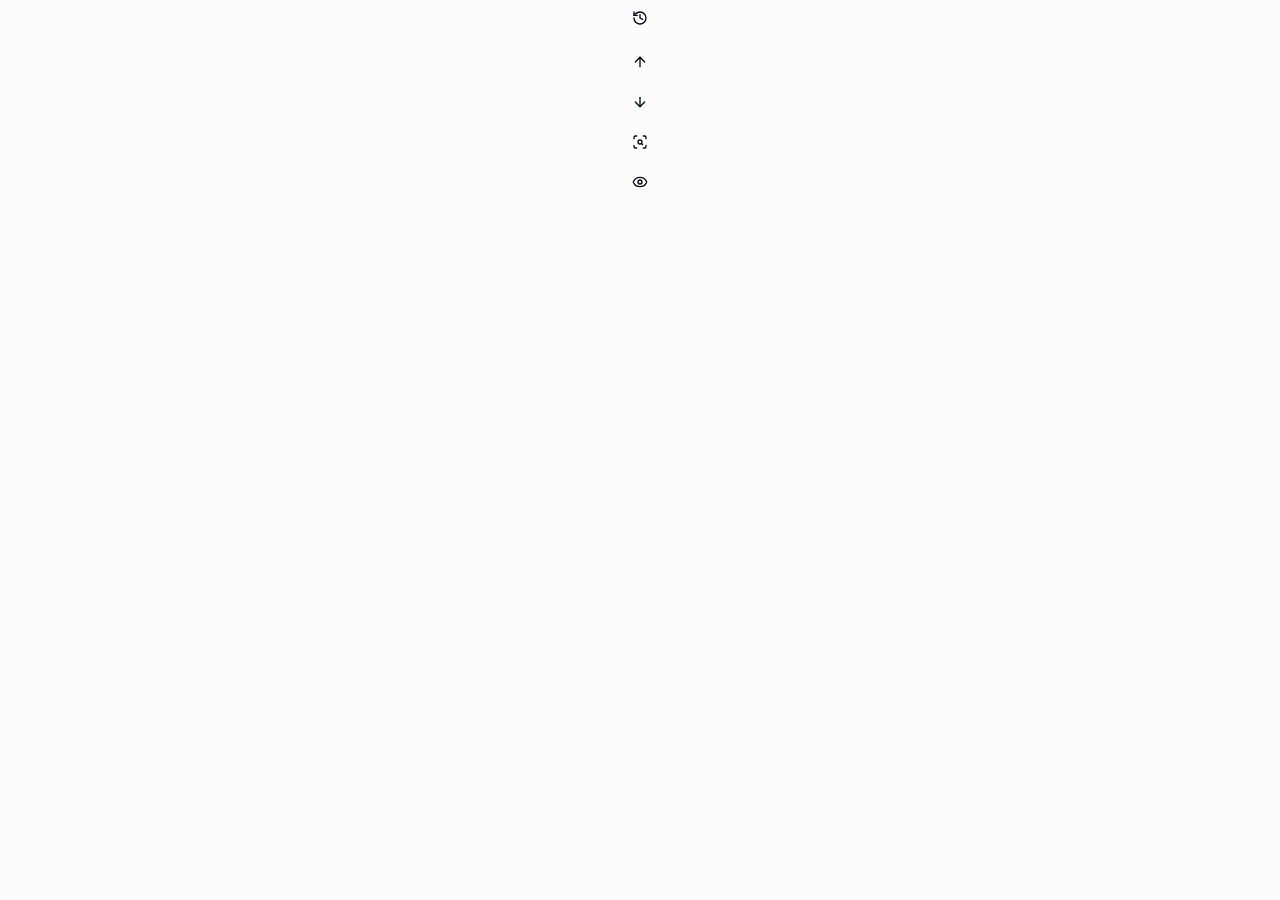
Test: colors every selected version change against its predecessor, including replaced and deleted text
Click the button named "Version history" at x=640, y=18, box [622,0,658,36]
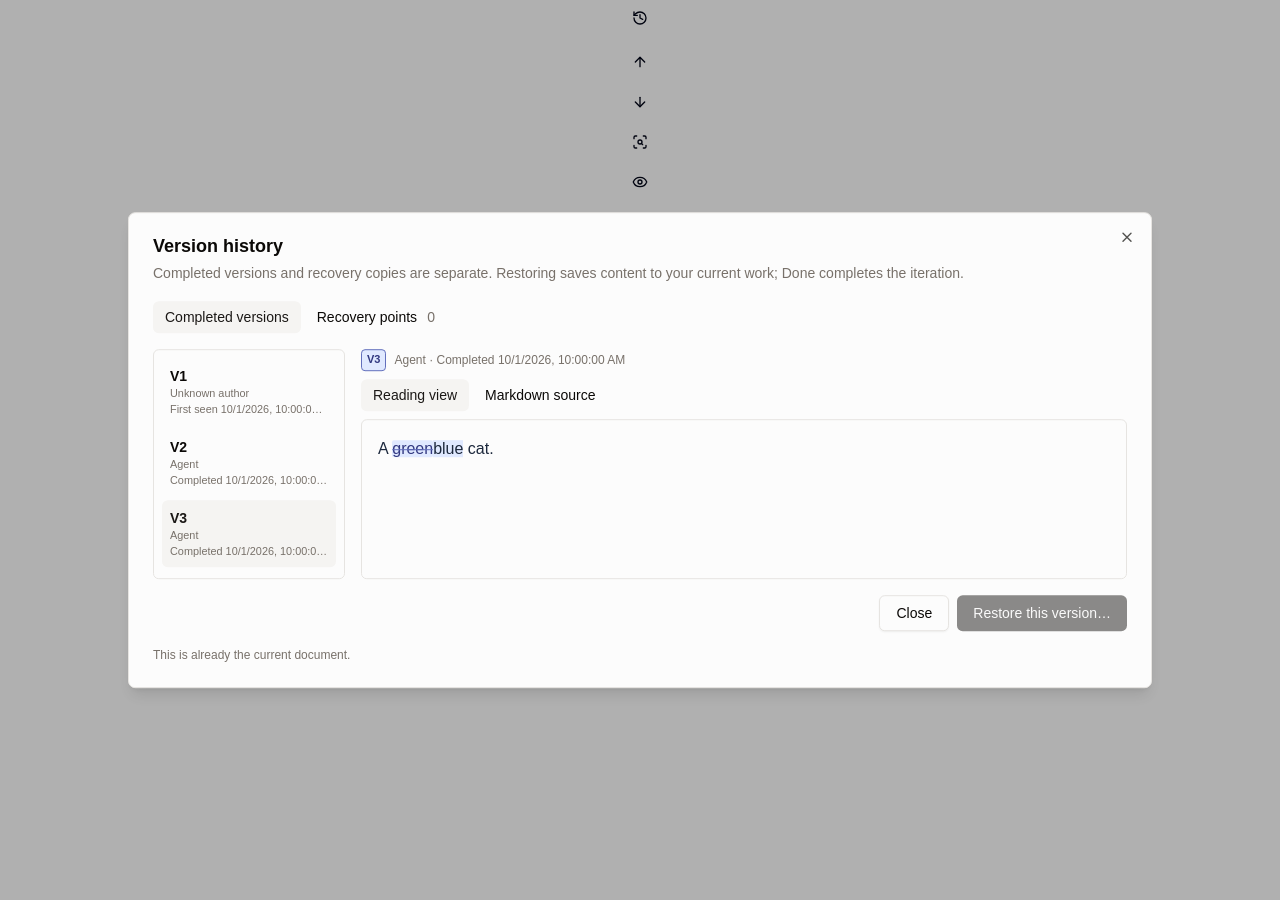
Click the button "V2 Agent Completed 10/1/2026, 10:00:00 AM" at x=249, y=463, box [162,429,336,496]
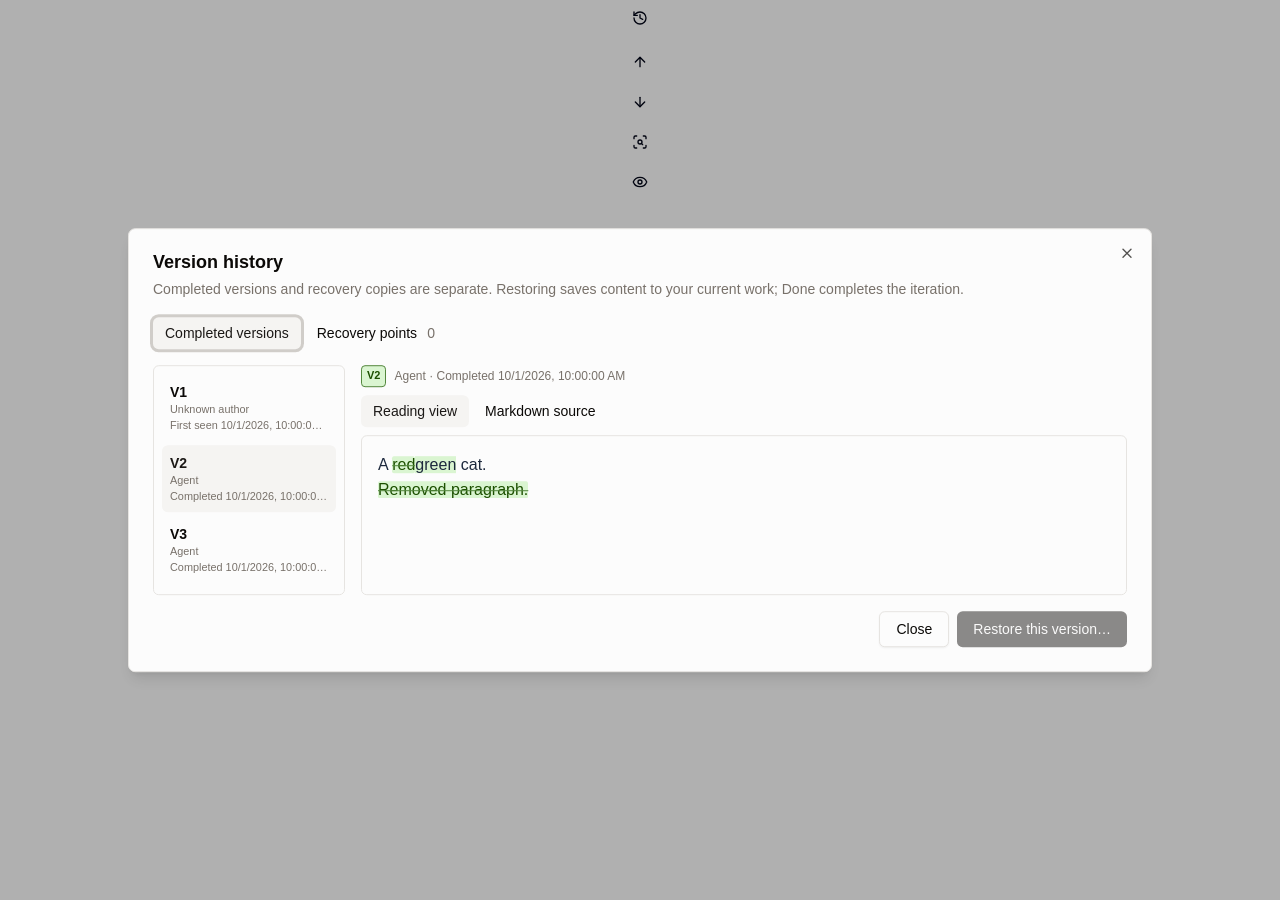
Expected: the text with test id "revision-highlight" reads "green", [415,456,456,473]
Expected: the text with test id "revision-history-preview" no longer shows "blue"
